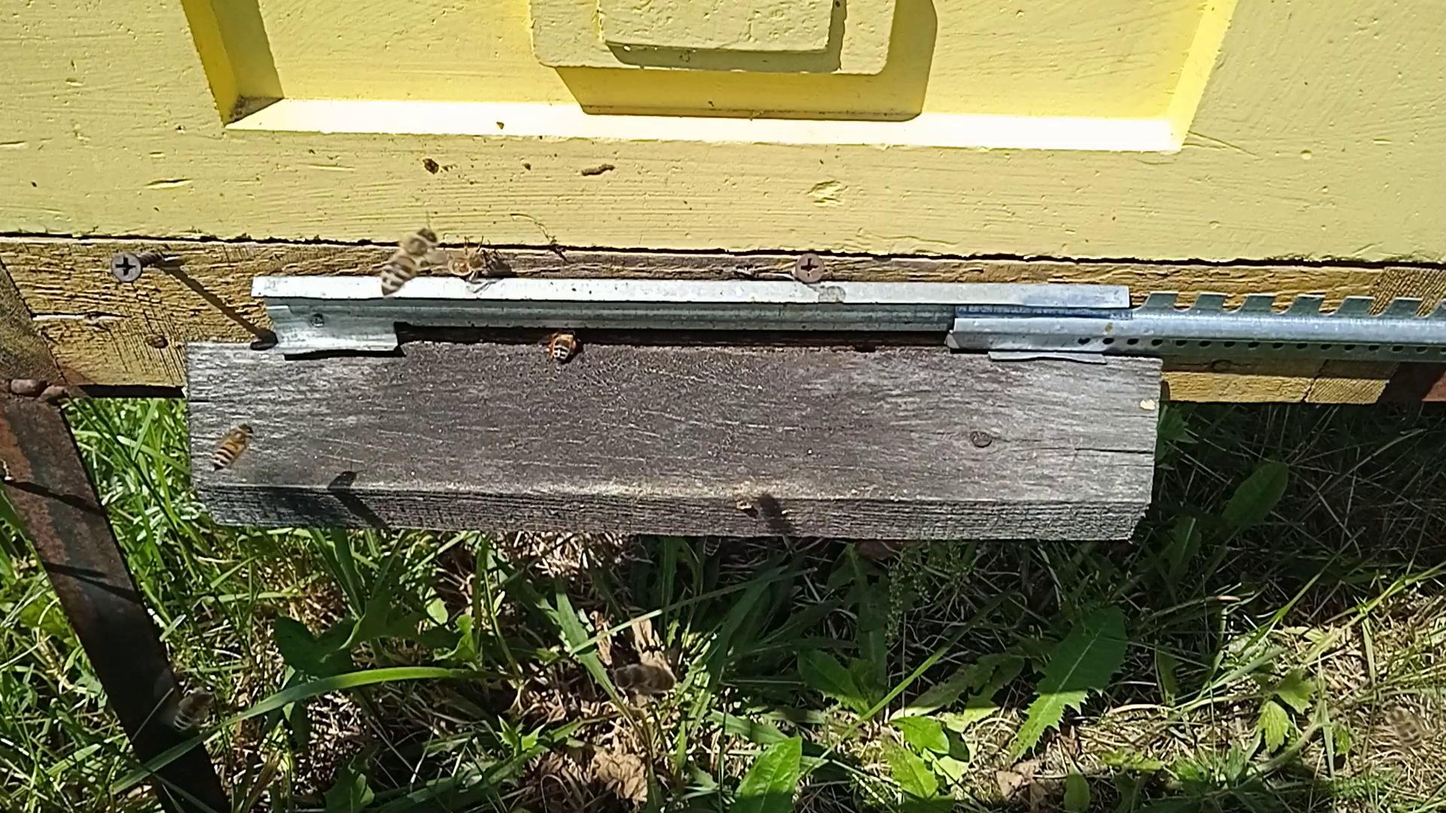worker-bee: (379, 227, 438, 297), (611, 657, 678, 698), (1380, 695, 1426, 753), (171, 681, 218, 732), (209, 422, 255, 470), (441, 247, 499, 277), (544, 327, 580, 364), (702, 534, 724, 559)
